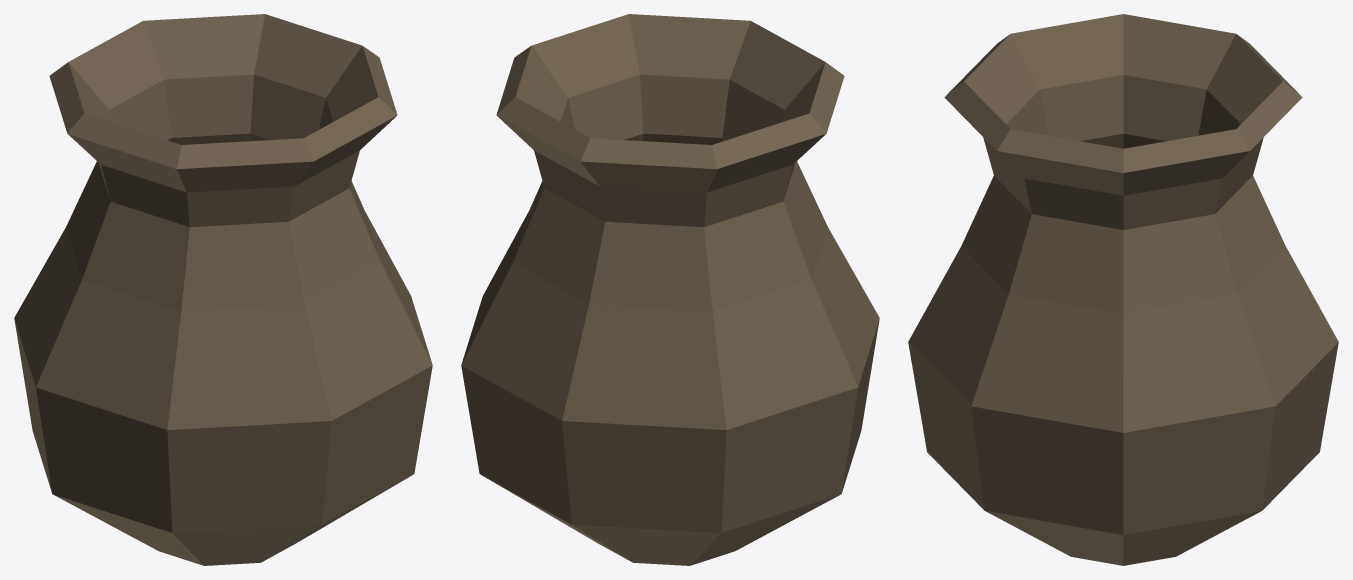
Rendered from Vase.glb.
The picture shows the model from 3 angles, left to right: view 1: azimuth 30°, elevation 25°; view 2: azimuth 150°, elevation 25°; view 3: azimuth 270°, elevation 25°; orthographic projection.
Visible parts, largest first — view 1: Vase; view 2: Vase; view 3: Vase.
Boxes of the visible parts, x1=… form: Vase: x1=14, y1=14, x2=432, y2=565; Vase: x1=461, y1=14, x2=879, y2=565; Vase: x1=908, y1=14, x2=1338, y2=565.
Bounding box in the file's own units: 0.311 × 0.361 × 0.311.
